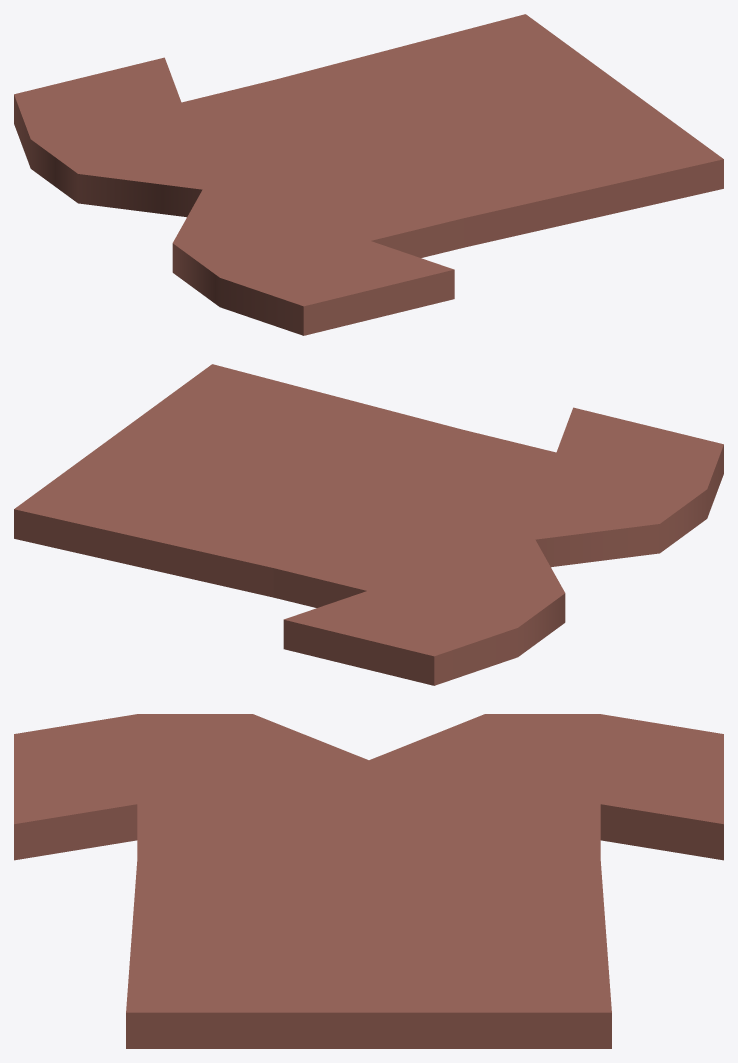
Rendered from clothes_shirt.fbx.
3 renders of one model, top to bottom at view 1: azimuth 30°, elevation 25°; view 2: azimuth 150°, elevation 25°; view 3: azimuth 270°, elevation 25°, orthographic. The views are drawn at different scales.
Visible parts, largest first — view 1: pCube104; view 2: pCube104; view 3: pCube104.
Boxes of the visible parts, x1,y1,x2,y2 form: pCube104: (14, 14, 723, 335); pCube104: (14, 364, 723, 685); pCube104: (14, 714, 723, 1048).
Bounding box in the file's own units: 1.71 × 0.0965 × 1.72.
